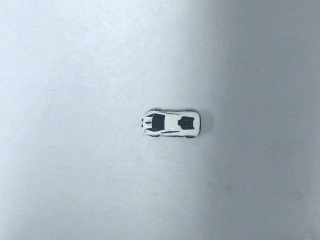toy_car: (141, 109, 200, 138)
